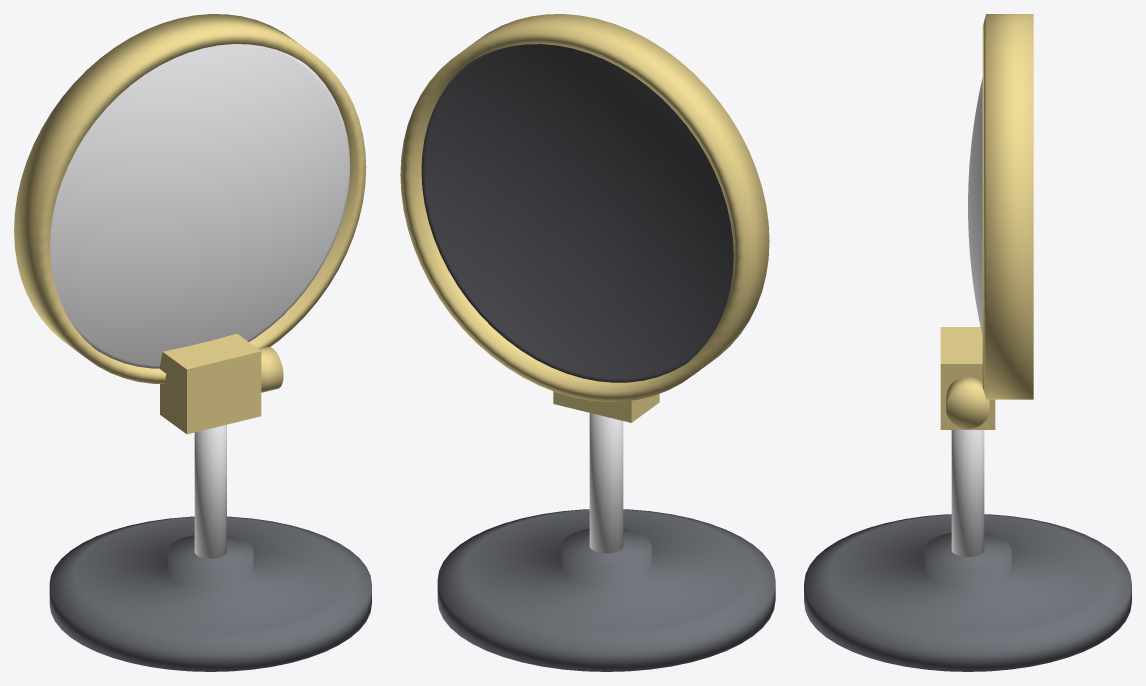
The model's file is convex-mirror.glb.
3 views of the same model, side by side, from view 1: azimuth 30°, elevation 25°; view 2: azimuth 150°, elevation 25°; view 3: azimuth 270°, elevation 25° (orthographic). The views are drawn at different scales.
Visible parts, largest first — view 1: convex-mirror-dish, convex-mirror-base, convex-mirror-bezel, convex-mirror-bracket, convex-mirror-post, convex-mirror-screw; view 2: convex-mirror-back, convex-mirror-base, convex-mirror-bezel, convex-mirror-post, convex-mirror-bracket; view 3: convex-mirror-base, convex-mirror-bezel, convex-mirror-post, convex-mirror-bracket, convex-mirror-dish, convex-mirror-screw.
Part boxes in pixels (x1,y1,x2,y2): convex-mirror-dish: [50, 44, 350, 368]; convex-mirror-base: [49, 516, 371, 671]; convex-mirror-bezel: [14, 14, 366, 384]; convex-mirror-bracket: [160, 333, 261, 434]; convex-mirror-post: [194, 424, 226, 558]; convex-mirror-screw: [259, 347, 283, 392]; convex-mirror-back: [421, 44, 733, 382]; convex-mirror-base: [437, 509, 775, 671]; convex-mirror-bezel: [400, 14, 769, 401]; convex-mirror-post: [589, 413, 623, 553]; convex-mirror-bracket: [553, 391, 659, 422]; convex-mirror-base: [804, 514, 1131, 671]; convex-mirror-bezel: [982, 14, 1033, 399]; convex-mirror-post: [951, 430, 984, 556]; convex-mirror-bracket: [940, 327, 995, 429]; convex-mirror-dish: [968, 78, 982, 335]; convex-mirror-screw: [946, 377, 989, 428].
Bounding box in the file's own units: 0.106 × 0.173 × 0.09.
